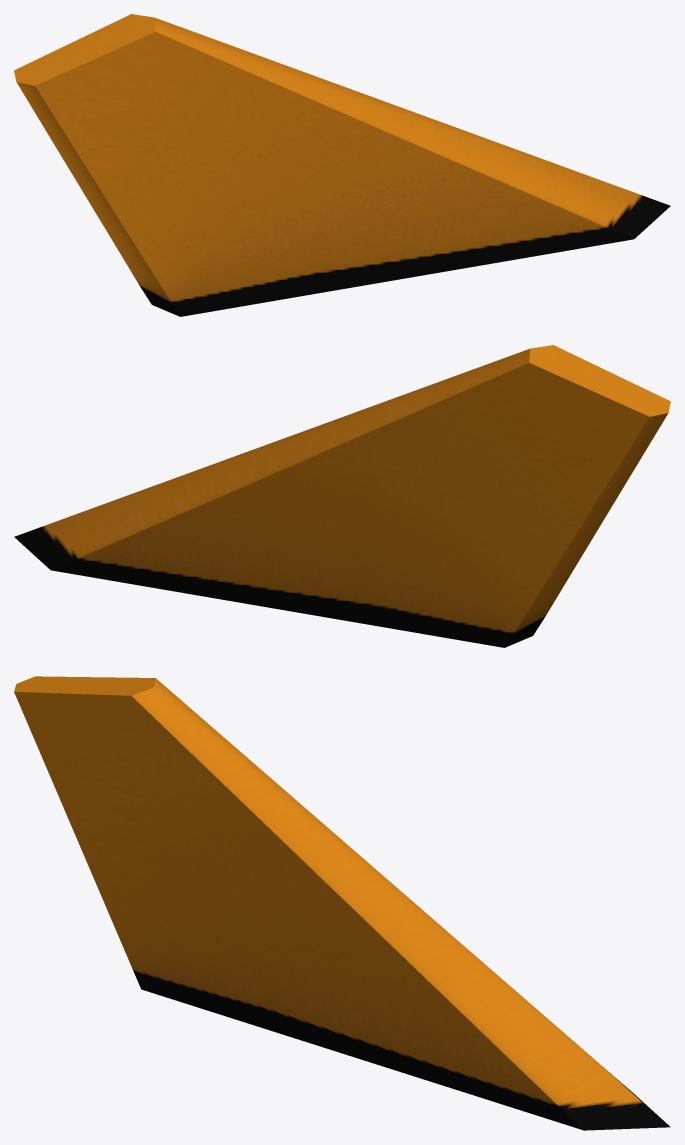
The model's file is Salamandre_Queue.FBX.
The picture shows the model from 3 angles, top to bottom: view 1: azimuth 30°, elevation 25°; view 2: azimuth 150°, elevation 25°; view 3: azimuth 330°, elevation 25°; orthographic projection.
Parts seen in each view (by area): view 1: Queue; view 2: Queue; view 3: Queue.
Boxes of the visible parts, <box> form: Queue: <box>14,14,670,316</box>; Queue: <box>14,345,670,647</box>; Queue: <box>14,676,670,1130</box>.
Bounding box in the file's own units: 6.18 × 2.84 × 0.8206.
